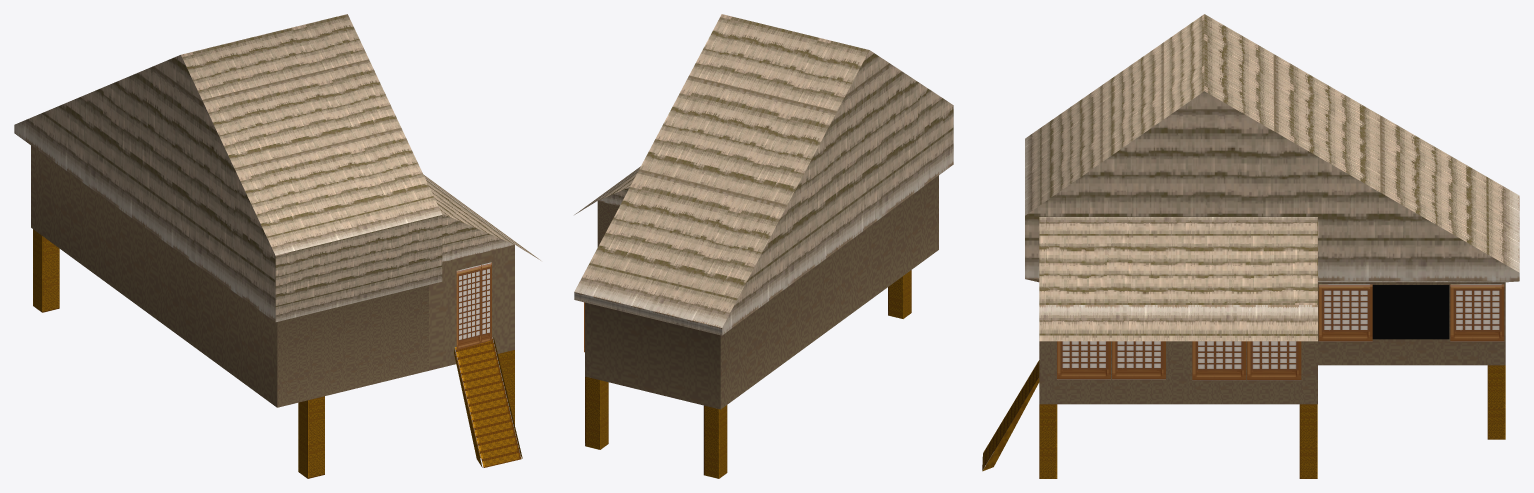
File: bahay_kubo1.fbx
3 renders of one model, left to right at view 1: azimuth 30°, elevation 25°; view 2: azimuth 150°, elevation 25°; view 3: azimuth 270°, elevation 25°, orthographic. The views are drawn at different scales.
Visible parts, largest first — view 1: pasted__pasted__polySurface20; view 2: pasted__pasted__polySurface20; view 3: pasted__pasted__polySurface20.
Boxes of the visible parts, bbox=[...] form: pasted__pasted__polySurface20: bbox=[14, 14, 540, 478]; pasted__pasted__polySurface20: bbox=[574, 14, 953, 478]; pasted__pasted__polySurface20: bbox=[982, 14, 1519, 478].
Bounding box in the file's own units: 11.4 × 14.75 × 20.33.
